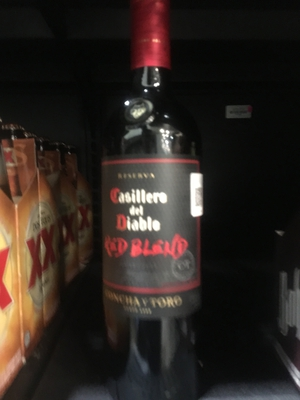casillero del diablo red blend: (79, 12, 225, 400)
